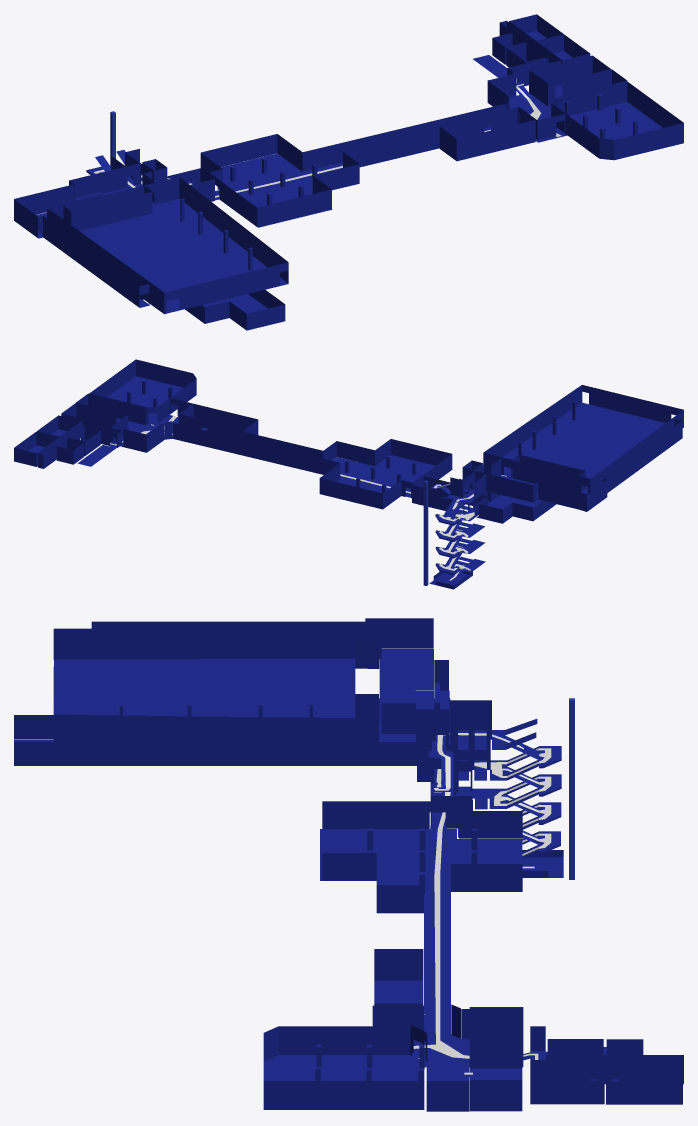
The model's file is lpm2.fbx.
The picture shows the model from 3 angles, top to bottom: view 1: azimuth 30°, elevation 25°; view 2: azimuth 150°, elevation 25°; view 3: azimuth 270°, elevation 25°; orthographic projection. The views are drawn at different scales.
Visible parts, largest first — view 1: 4, 2, Plane; view 2: 4, 2, Plane, 0kopalka; view 3: 4, 2, Plane, 0kopalka.
Part boxes in pixels (x1,y1,x2,y2): 4: [86, 14, 683, 330]; 2: [14, 148, 288, 314]; Plane: [94, 84, 561, 197]; 4: [14, 359, 556, 589]; 2: [430, 385, 683, 517]; Plane: [80, 416, 474, 580]; 0kopalka: [423, 480, 428, 585]; 4: [14, 698, 683, 1111]; 2: [53, 618, 539, 791]; Plane: [413, 733, 551, 1074]; 0kopalka: [569, 698, 574, 879].
Size of the model in its own units: 11596 by 2296 by 7769.
